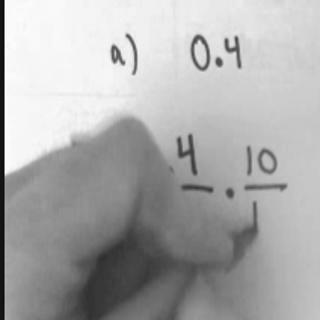.: (220, 182, 237, 201), (212, 52, 227, 69)
0: (189, 31, 212, 72), (257, 147, 276, 173)
1: (250, 198, 260, 226), (245, 143, 253, 175)
4: (176, 131, 199, 176), (222, 35, 245, 69)
